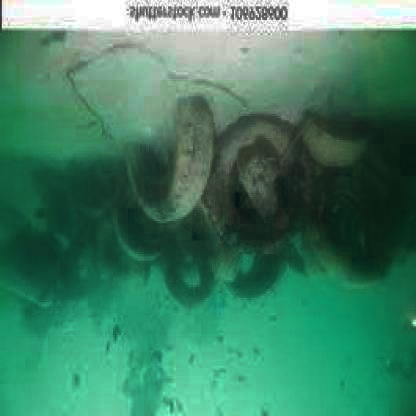tire: (216, 105, 312, 261), (126, 105, 215, 232), (295, 182, 382, 287), (136, 230, 219, 324), (209, 230, 295, 306), (311, 116, 386, 180)
